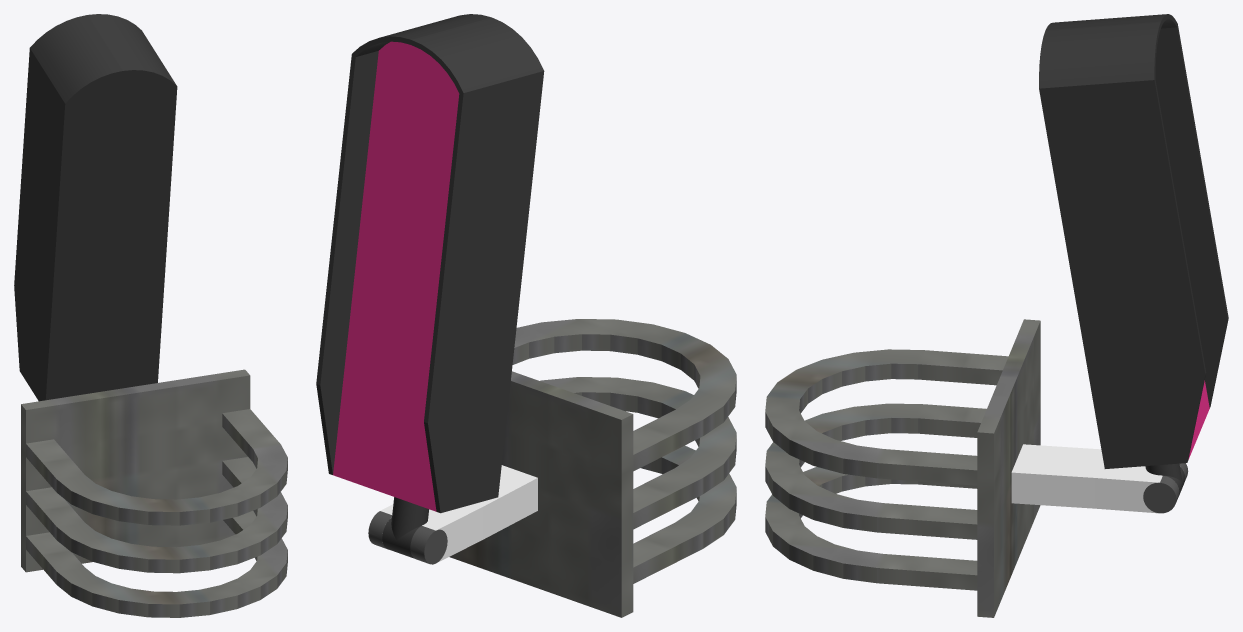
File: sensor-emissor.fbx
The picture shows the model from 3 angles, left to right: view 1: azimuth 30°, elevation 25°; view 2: azimuth 150°, elevation 25°; view 3: azimuth 270°, elevation 25°; orthographic projection. The views are drawn at different scales.
Visible parts, largest first — view 1: Componente_3_1, Componente_1_1, Al_a1, Al_a3, Al_a2; view 2: Componente_3_1, Componente_1_1, Al_a1, Al_a3, Componente_4_1, Al_a2; view 3: Componente_3_1, Al_a1, Al_a3, Componente_1_1, Al_a2, Componente_4_1.
Part boxes in pixels (x1=…): Componente_3_1: x1=14, y1=14, x2=177, y2=401; Componente_1_1: x1=21, y1=369, x2=250, y2=572; Al_a1: x1=26, y1=409, x2=287, y2=525; Al_a3: x1=26, y1=457, x2=287, y2=573; Al_a2: x1=26, y1=511, x2=287, y2=617; Componente_3_1: x1=316, y1=14, x2=544, y2=558; Componente_1_1: x1=449, y1=371, x2=633, y2=617; Al_a1: x1=512, y1=319, x2=736, y2=471; Al_a3: x1=540, y1=377, x2=736, y2=529; Componente_4_1: x1=368, y1=465, x2=537, y2=564; Al_a2: x1=633, y1=445, x2=736, y2=583; Componente_3_1: x1=1039, y1=14, x2=1228, y2=495; Al_a1: x1=765, y1=349, x2=1008, y2=485; Al_a3: x1=765, y1=403, x2=986, y2=539; Componente_1_1: x1=977, y1=319, x2=1040, y2=617; Al_a2: x1=765, y1=467, x2=977, y2=590; Componente_4_1: x1=1011, y1=444, x2=1188, y2=513.
Size of the model in its own units: 171 by 357 by 273.
